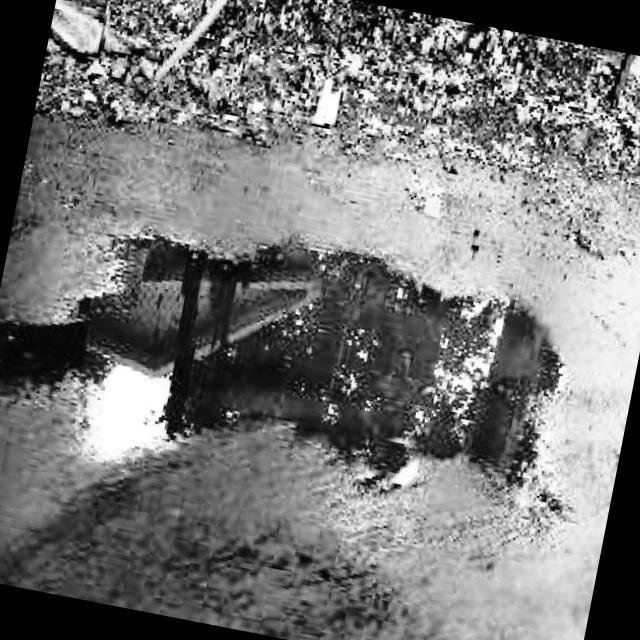Pothole: (0, 173, 598, 546)
